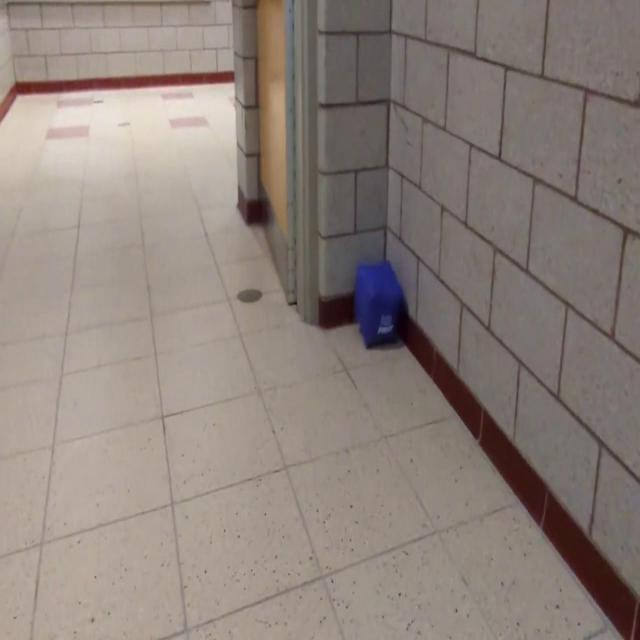frc_cube: (355, 260, 404, 354)
